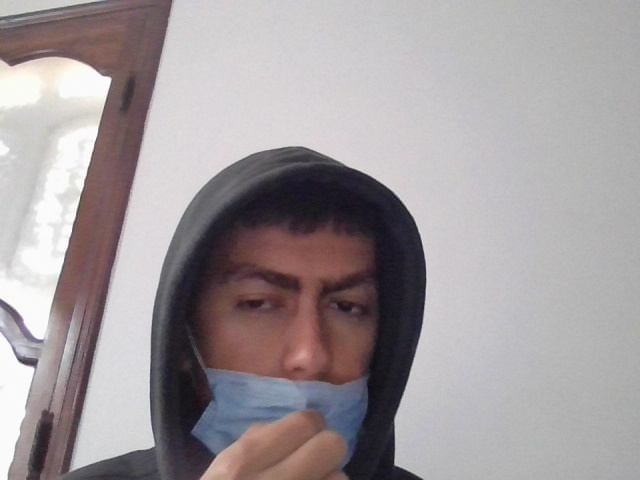mask_weared_incorrect: (185, 204, 377, 480)
